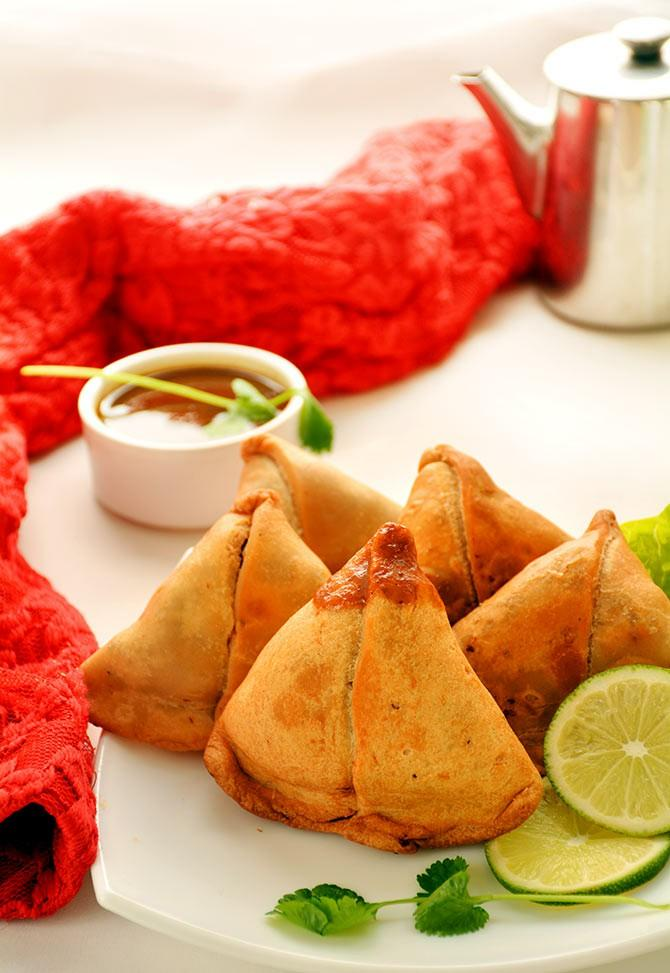Samosa: (206, 519, 546, 853), (68, 486, 333, 750), (455, 504, 670, 759), (340, 444, 573, 617)
